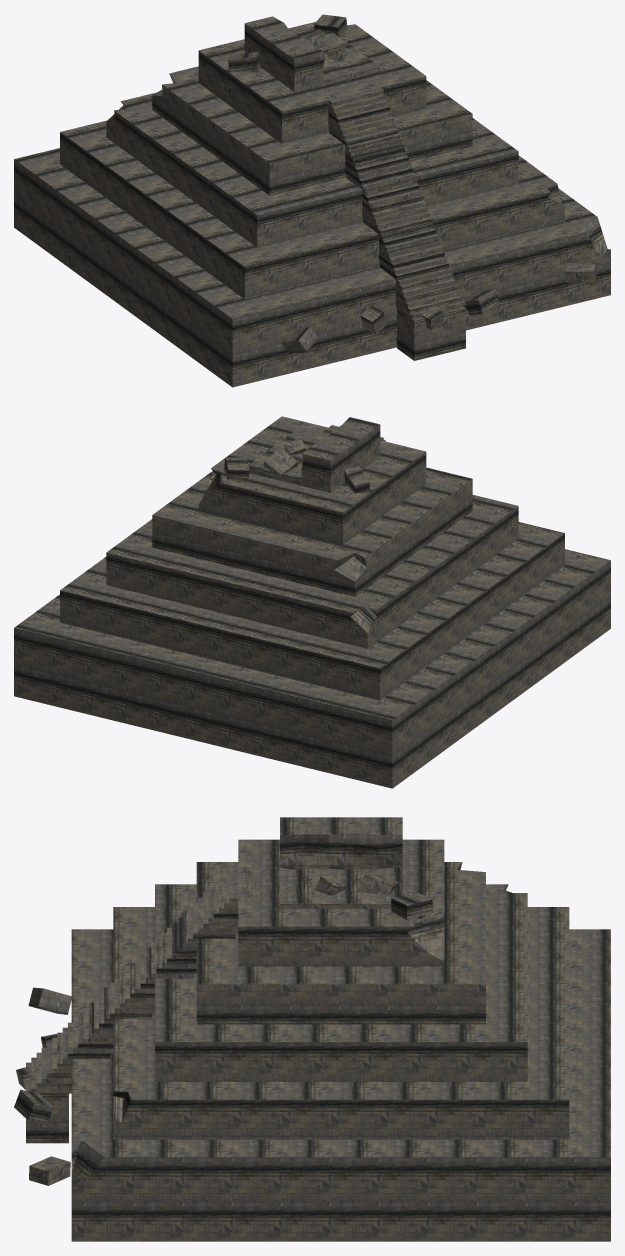
Rendered from step_pyramid.glb.
The picture shows the model from 3 angles, top to bottom: view 1: azimuth 30°, elevation 25°; view 2: azimuth 150°, elevation 25°; view 3: azimuth 270°, elevation 25°; orthographic projection. The views are drawn at different scales.
Visible parts, largest first — view 1: step_pyramid; view 2: step_pyramid; view 3: step_pyramid.
Boxes of the visible parts, x1,y1,x2,y2 form: step_pyramid: (14,14,610,387); step_pyramid: (14,416,610,788); step_pyramid: (14,817,610,1241).
Bounding box in the file's own units: 44 × 25.6 × 48.69.
1 material, 1 textured.
